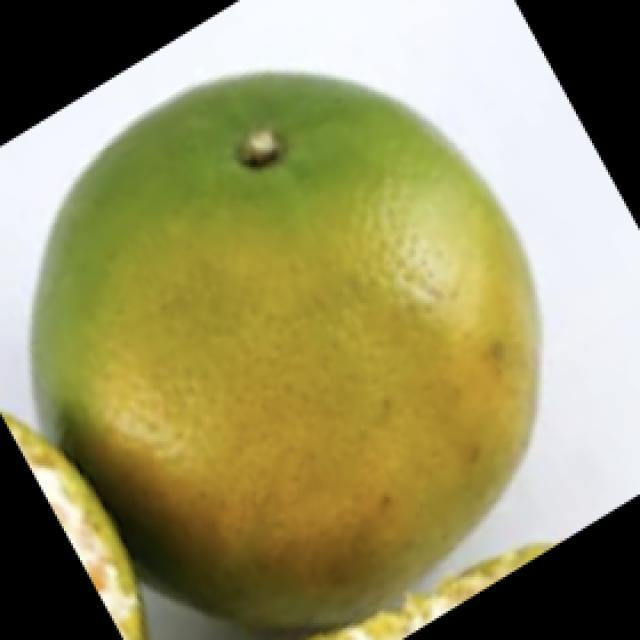Orange: (27, 69, 542, 636)
